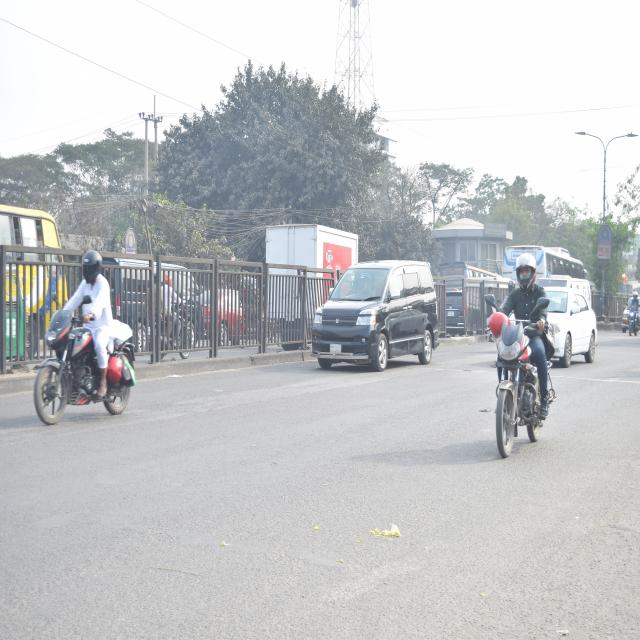car: (314, 250, 437, 380), (541, 278, 599, 371)
motorbike: (30, 282, 146, 431), (477, 290, 554, 464), (625, 290, 640, 343)
